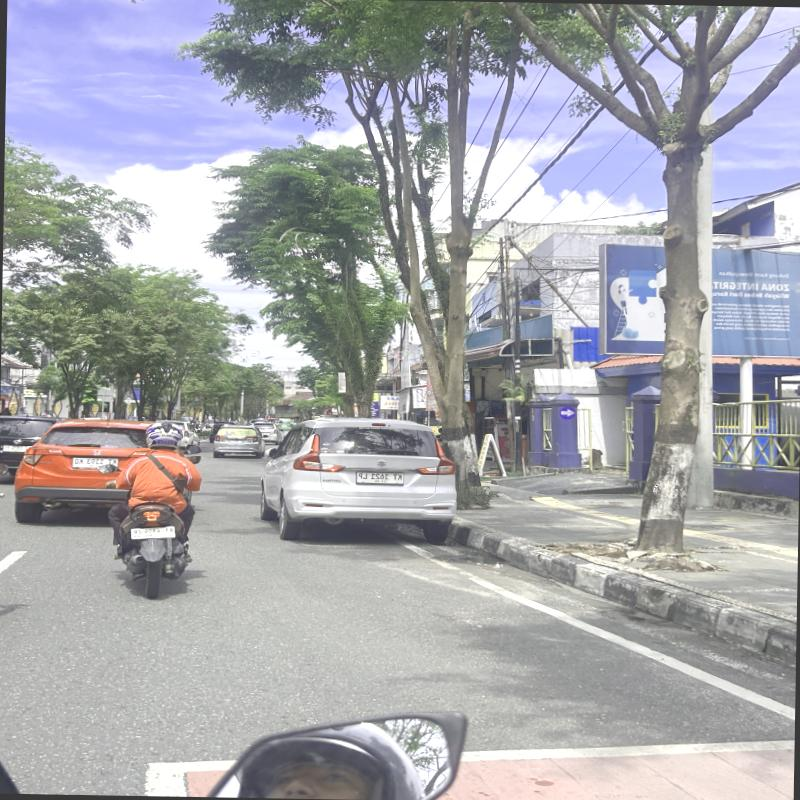license plate on a car: (356, 472, 404, 484), (72, 457, 117, 468), (2, 445, 31, 451), (229, 439, 243, 443)
